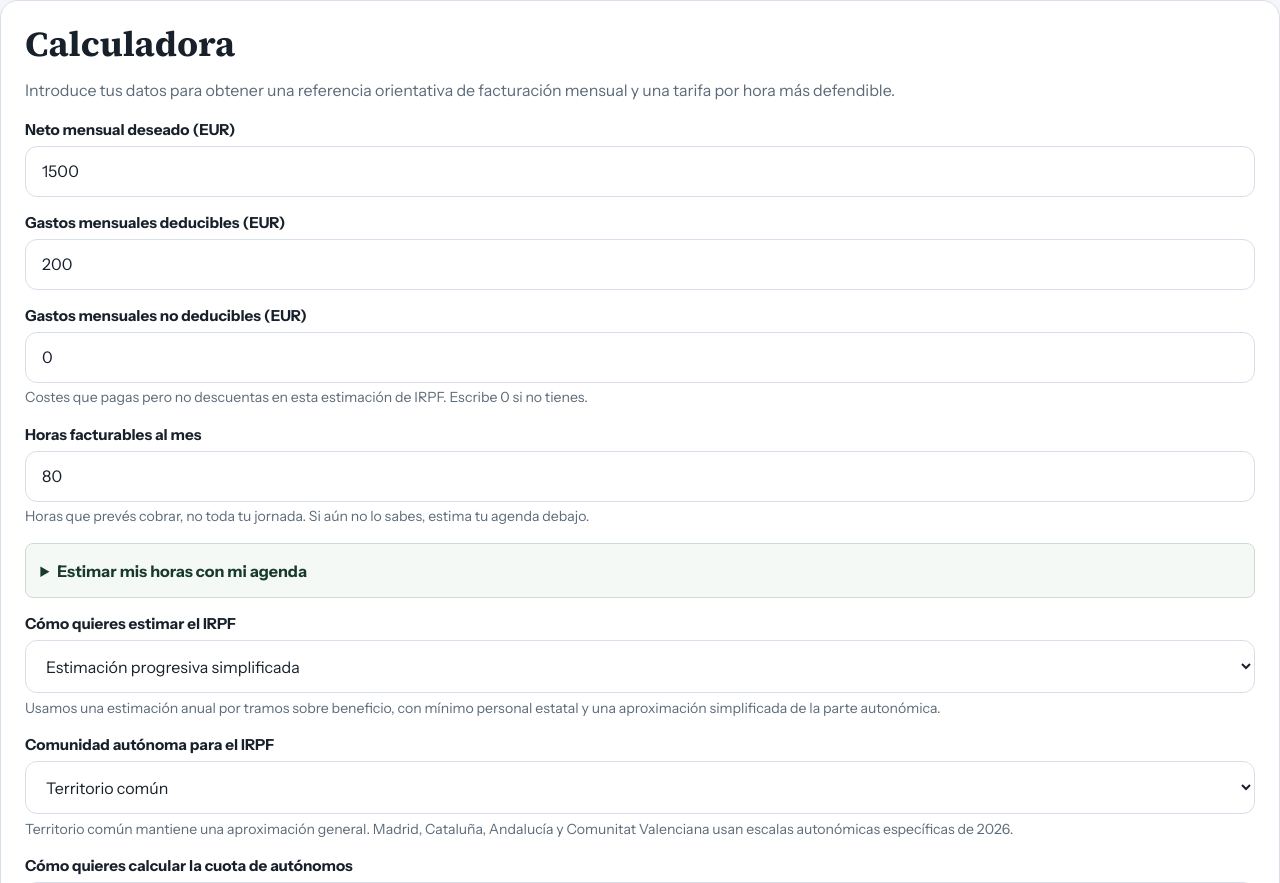
Test: CalculatorForm › normalizes a pasted Spanish currency amount
Click the number field labelled "Neto mensual deseado (EUR)" at (640, 171), box left=25, top=146, right=1255, bottom=197
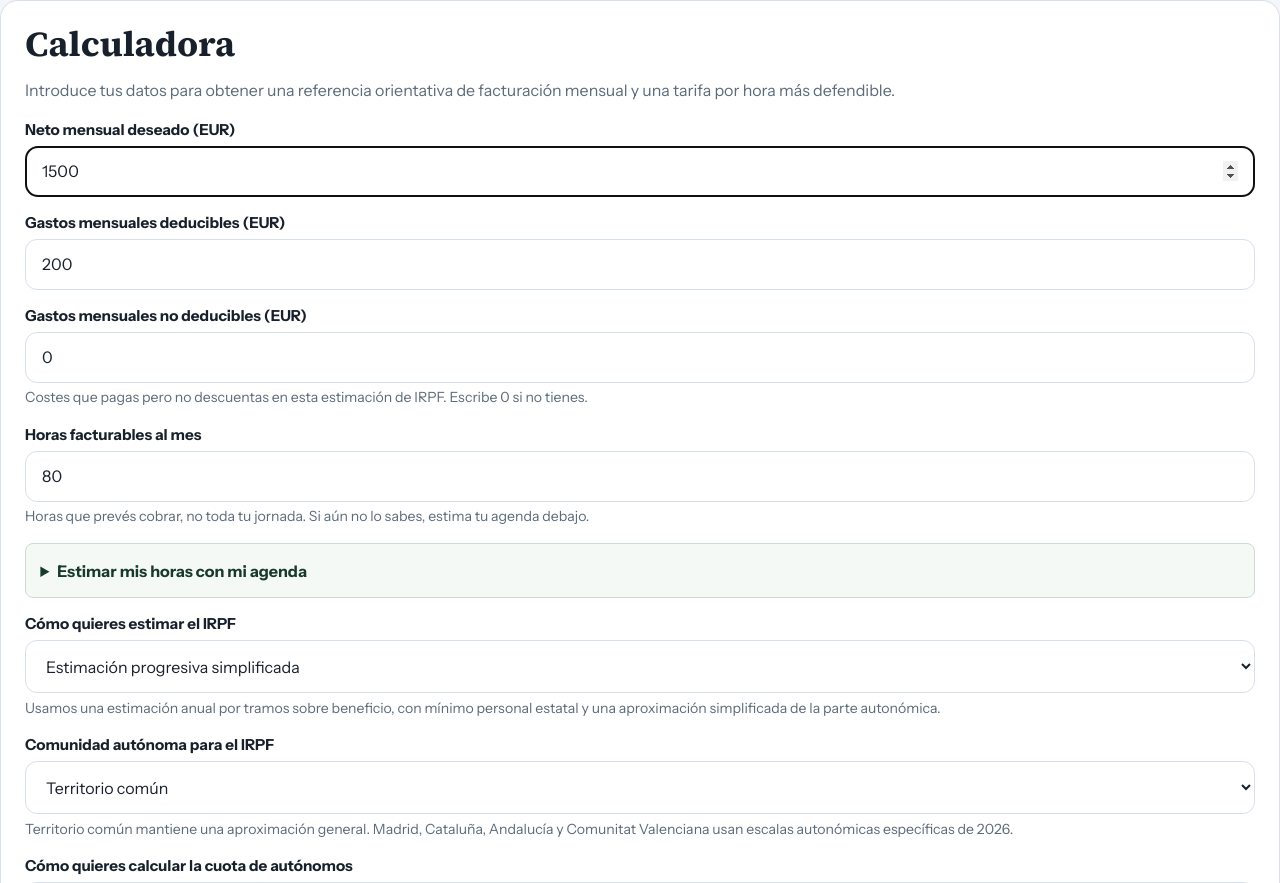
Type keys "2.500,50 €"
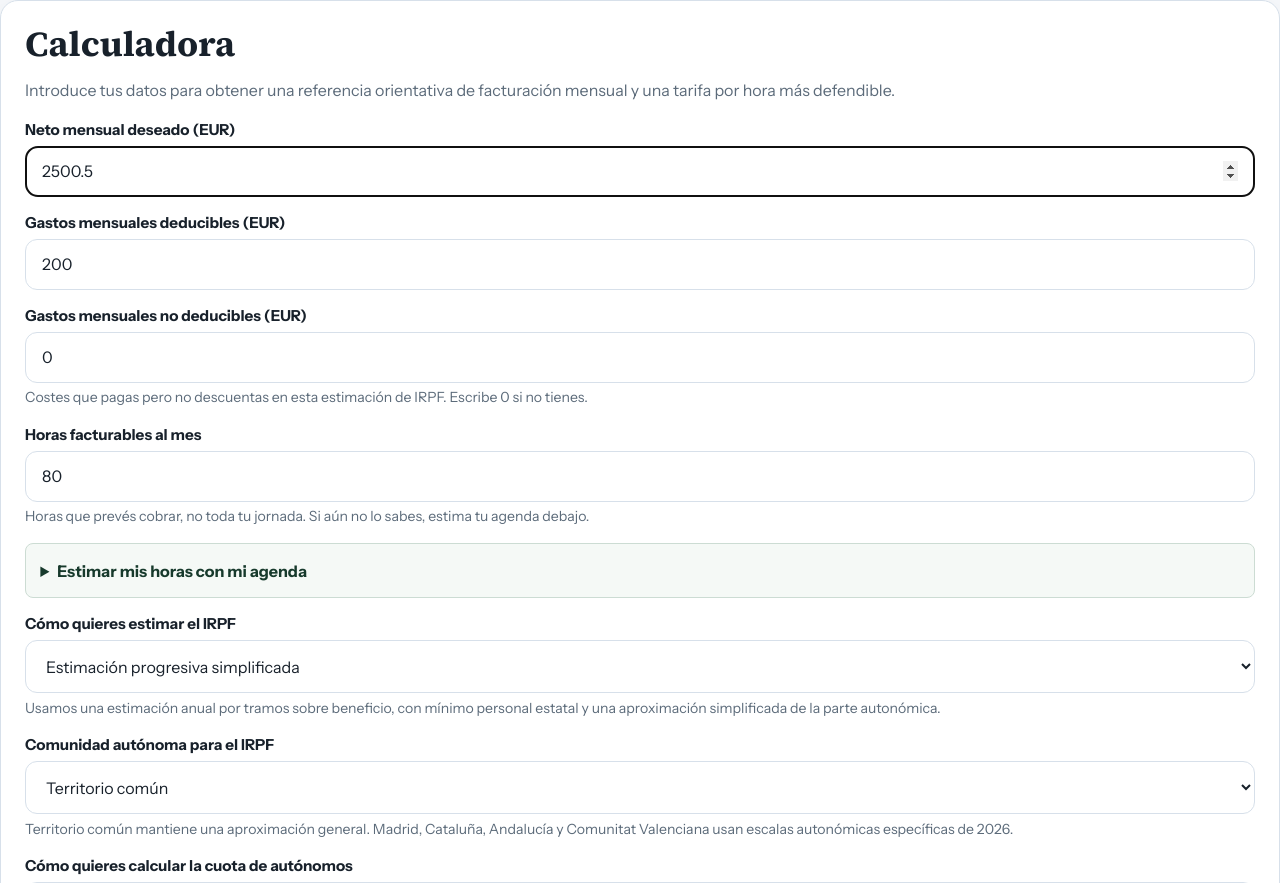
Result: the number field labelled "Neto mensual deseado (EUR)" holds "2500.5" at left=25, top=146, right=1255, bottom=197
